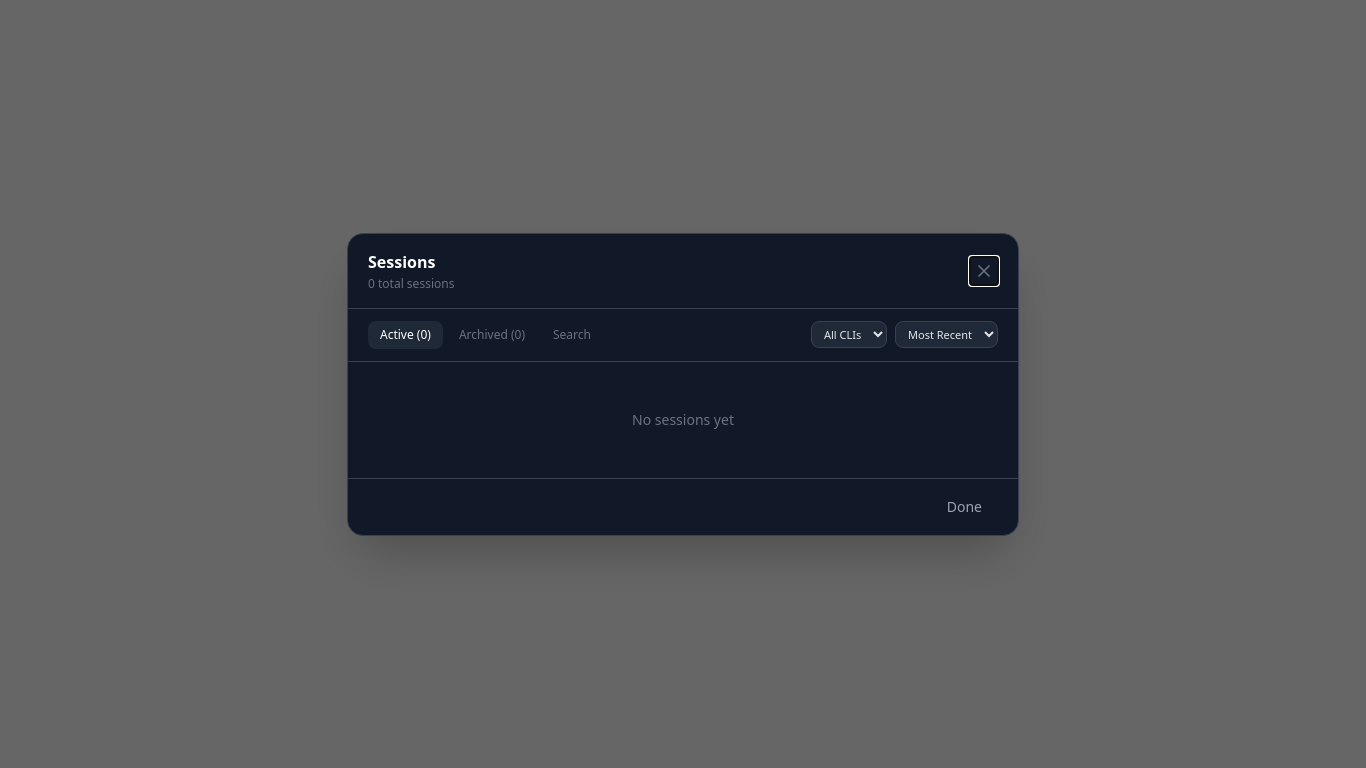
Test: SessionManager › switches to Archived tab and shows "No archived sessions" message
The width and height of the screenshot is (1366, 768).
Click the button "Archived (0)" at {"x": 492, "y": 334}, box [447,320,537,348]
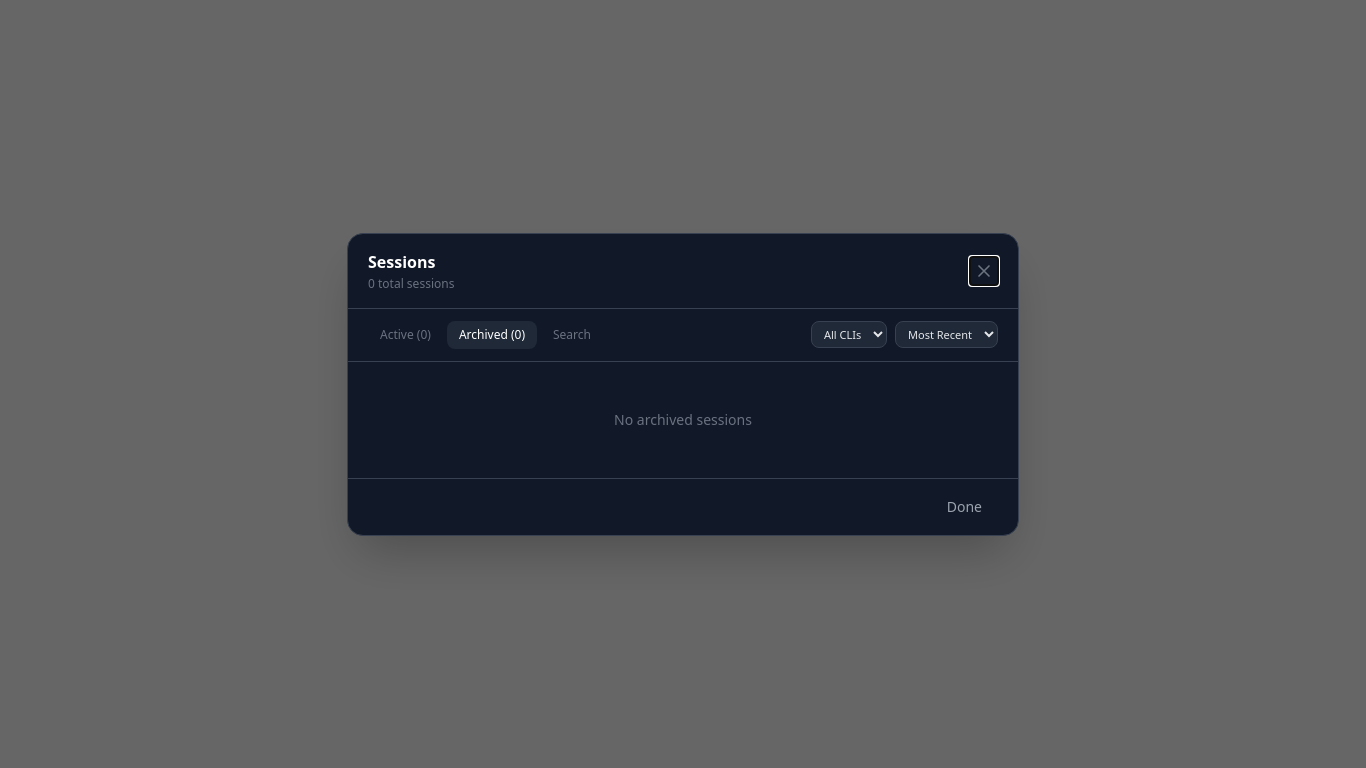
Expected: the text "No archived sessions" is shown, [614,410,752,428]
